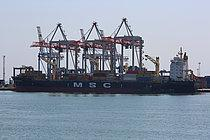Ship: (8, 16, 207, 98)
